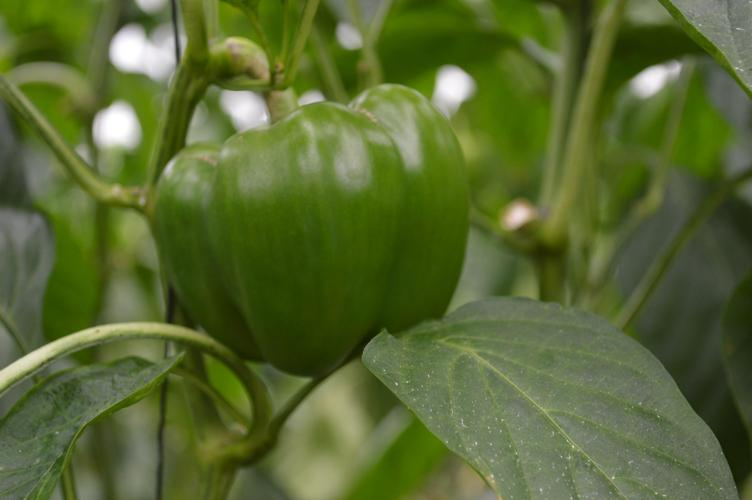BellPepper: (151, 84, 470, 359)
